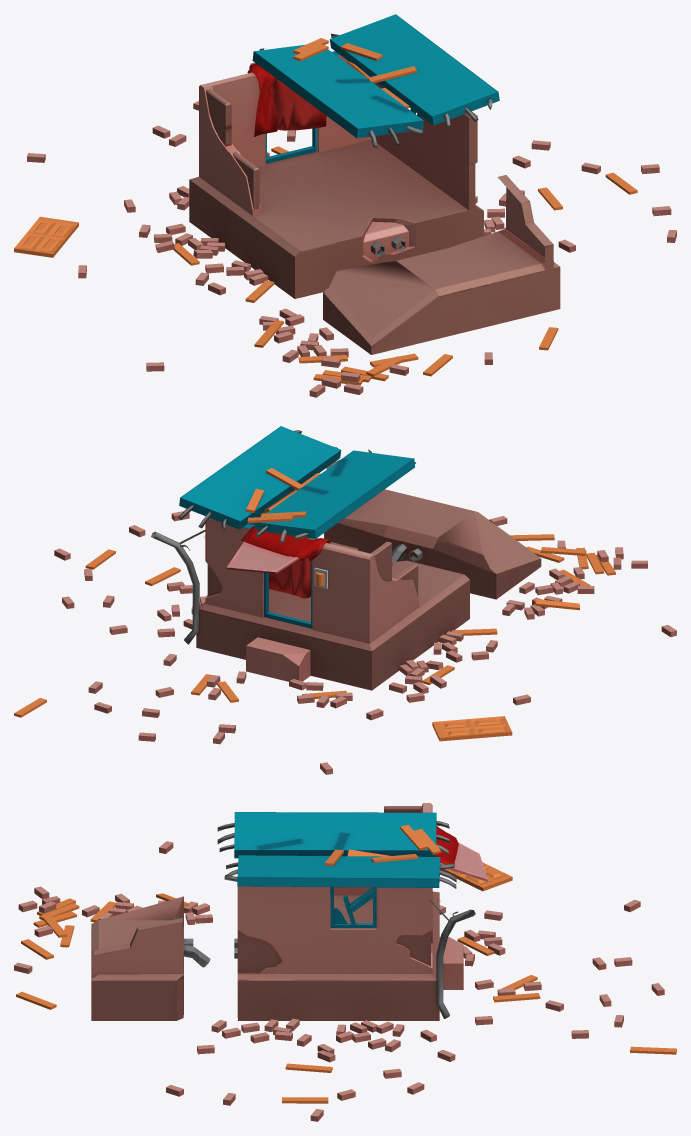
The model's file is BreakHouse.fbx.
3 views of the same model, one above another, from view 1: azimuth 30°, elevation 25°; view 2: azimuth 150°, elevation 25°; view 3: azimuth 270°, elevation 25° (orthographic). The views are drawn at different scales.
Parts seen in each view (by area): view 1: BreakHouse; view 2: BreakHouse; view 3: BreakHouse.
Part boxes in pixels (bbox=[...]): BreakHouse: bbox=[14, 14, 676, 397]; BreakHouse: bbox=[14, 426, 676, 774]; BreakHouse: bbox=[14, 803, 676, 1121].
Size of the model in its own units: 42.8 by 10.94 by 43.52.
